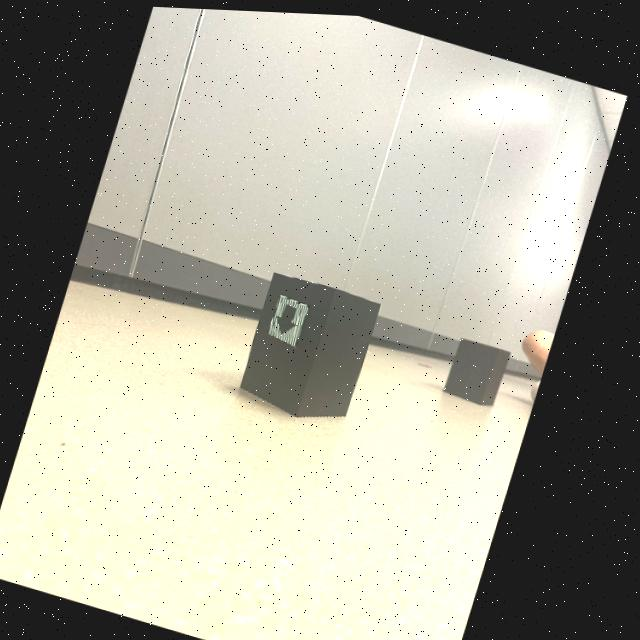DOWN: (280, 302, 300, 331)
